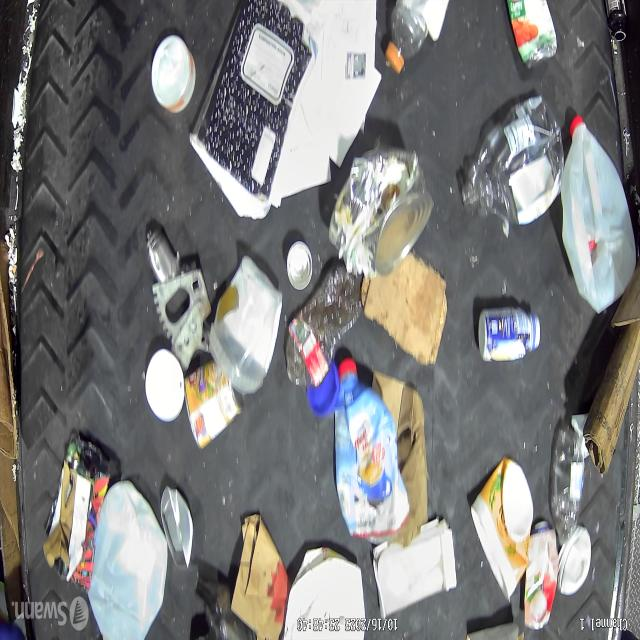can: (331, 144, 430, 278), (183, 360, 244, 450), (506, 2, 557, 69), (160, 486, 193, 570), (286, 240, 314, 292)
milk_jug: (560, 117, 636, 312), (89, 484, 166, 640)
non_white_jug: (333, 363, 409, 537), (457, 101, 565, 223)
plastic_bottle: (285, 266, 362, 388), (385, 0, 450, 75), (552, 428, 584, 546)
